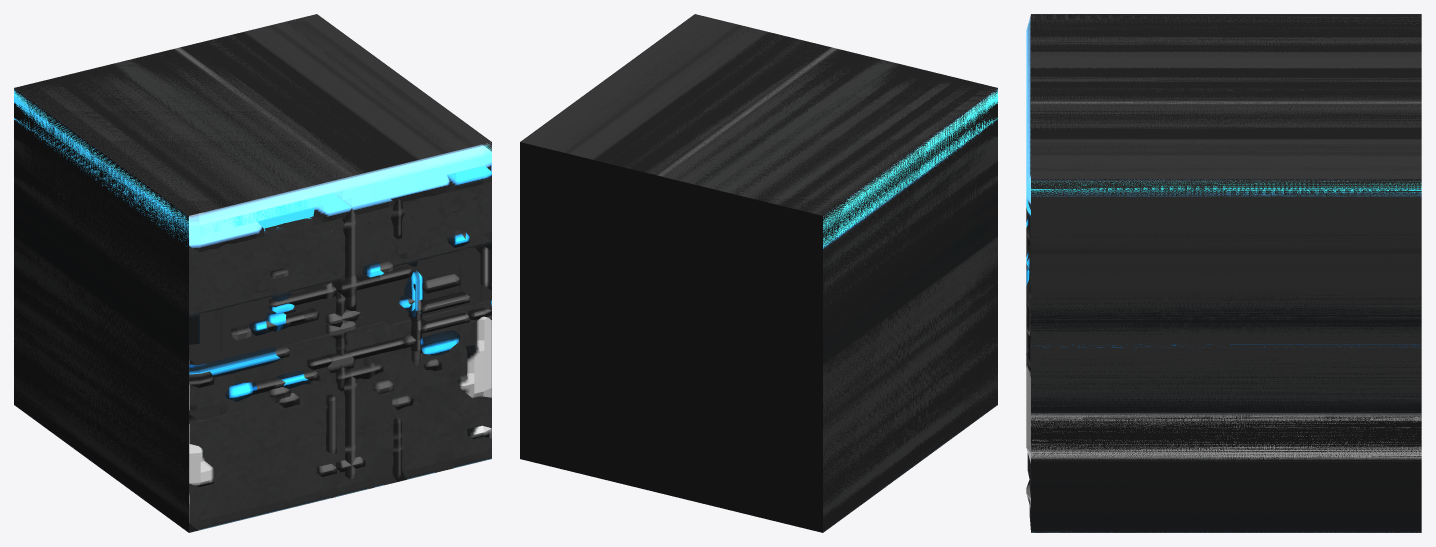
File: tiles.glb
The picture shows the model from 3 angles, left to right: view 1: azimuth 30°, elevation 25°; view 2: azimuth 150°, elevation 25°; view 3: azimuth 270°, elevation 25°; orthographic projection. The views are drawn at different scales.
Parts seen in each view (by area): view 1: corner_bottom_left, platform_04, platform_03, platform_02, platform_01, side01, top_04, corner_bottom_right, top_03, side03, side02, top_02 (+6 smaller); view 2: corner_bottom_left, platform_04; view 3: corner_bottom_left, platform_04, platform_01.
Part boxes in pixels (x1=…): corner_bottom_left: x1=14, y1=14, x2=491, y2=532; platform_04: x1=14, y1=14, x2=491, y2=532; platform_03: x1=189, y1=165, x2=491, y2=518; platform_02: x1=189, y1=187, x2=491, y2=523; platform_01: x1=189, y1=144, x2=491, y2=514; side01: x1=195, y1=199, x2=473, y2=472; top_04: x1=278, y1=274, x2=469, y2=407; corner_bottom_right: x1=189, y1=230, x2=337, y2=420; top_03: x1=189, y1=280, x2=397, y2=393; side03: x1=284, y1=217, x2=413, y2=481; side02: x1=270, y1=251, x2=463, y2=476; top_02: x1=307, y1=266, x2=491, y2=370; corner_bottom_left: x1=520, y1=14, x2=997, y2=532; platform_04: x1=525, y1=14, x2=997, y2=531; corner_bottom_left: x1=1026, y1=14, x2=1421, y2=532; platform_04: x1=1026, y1=14, x2=1421, y2=532; platform_01: x1=1026, y1=15, x2=1030, y2=286.
Bounding box in the file's own units: 2 × 2 × 2.02.
Materials: 20 (20 with a texture image).
